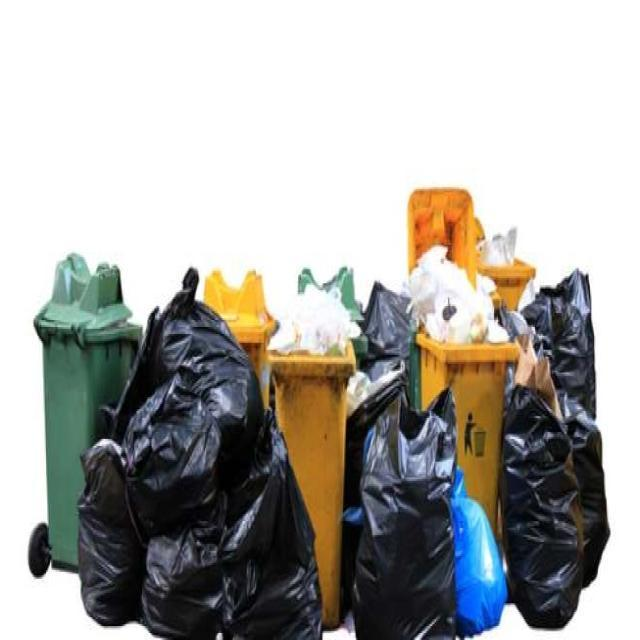Vinyl: (352, 380, 460, 640), (150, 266, 266, 474), (215, 421, 325, 638), (499, 383, 578, 633), (76, 442, 144, 628), (520, 270, 596, 422), (142, 520, 226, 640)
